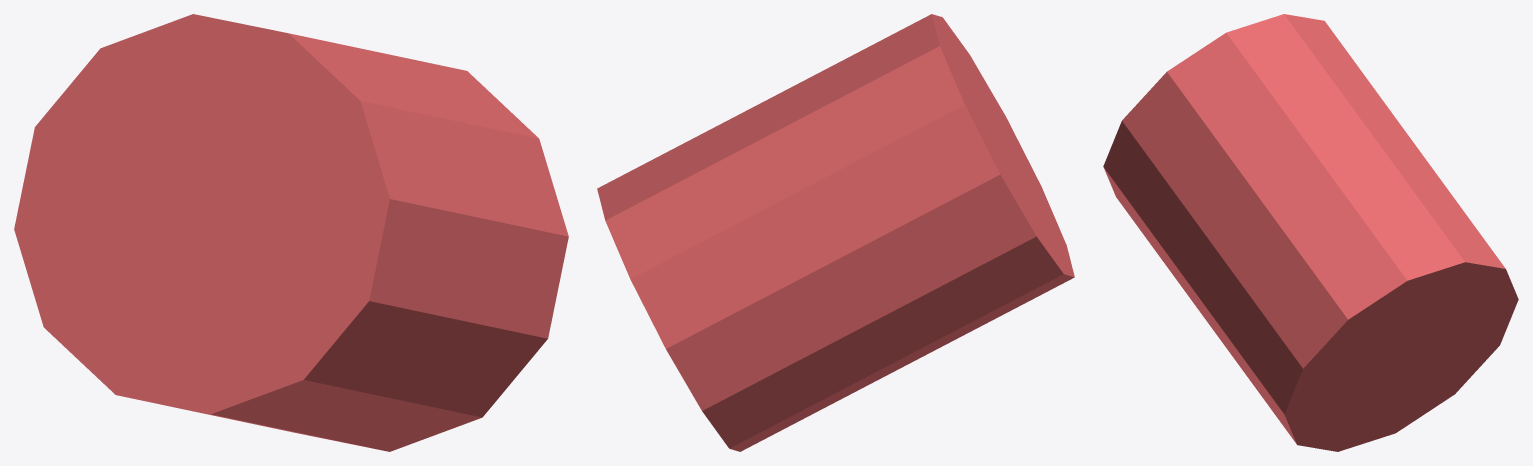
Rendered from Trash4.fbx.
3 renders of one model, left to right at view 1: azimuth 30°, elevation 25°; view 2: azimuth 150°, elevation 25°; view 3: azimuth 270°, elevation 25°, orthographic. The views are drawn at different scales.
Parts seen in each view (by area): view 1: Cylinder; view 2: Cylinder; view 3: Cylinder.
Boxes of the visible parts, x1,y1,x2,y2 form: Cylinder: (14, 14, 568, 451); Cylinder: (597, 14, 1074, 451); Cylinder: (1103, 14, 1518, 451).
Size of the model in its own units: 25.24 by 23 by 24.11.
